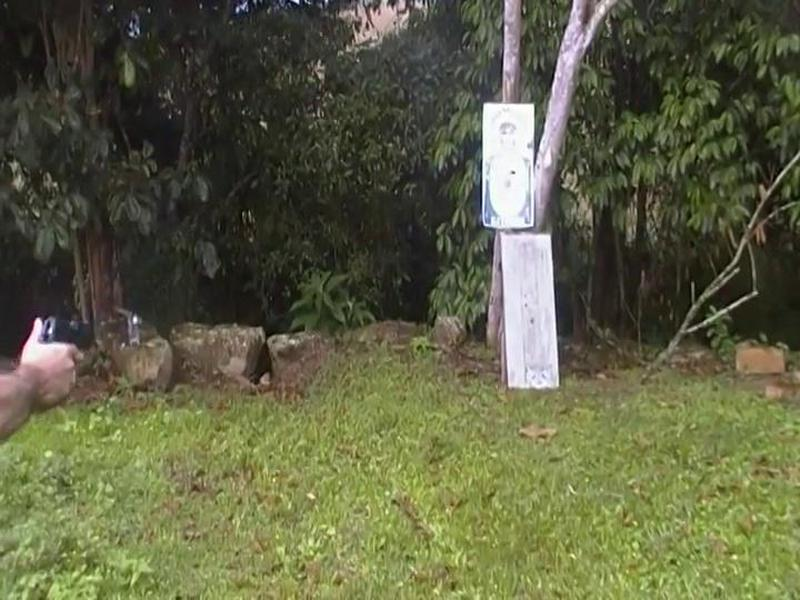Pistola: (21, 299, 125, 373)
